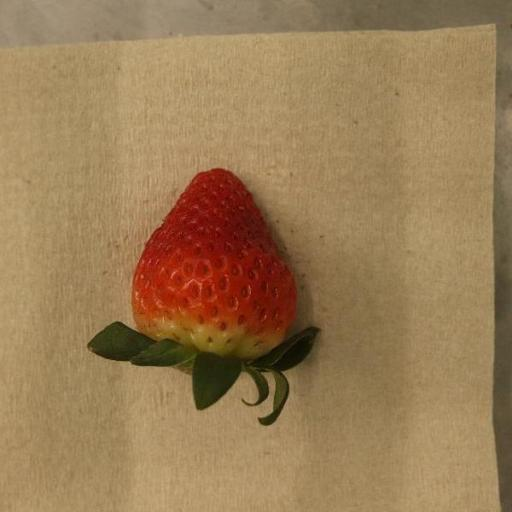Strawberry: (87, 168, 321, 427)
